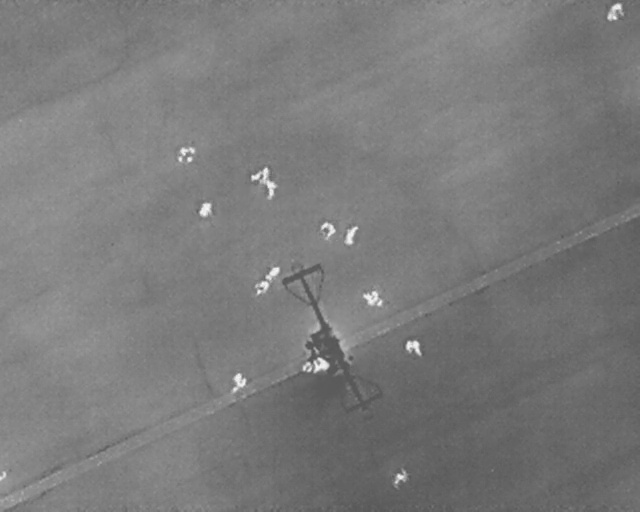Person: (358, 284, 388, 311), (196, 198, 216, 221), (342, 222, 361, 245), (250, 166, 270, 185), (318, 221, 337, 240), (263, 263, 282, 282), (405, 338, 423, 356), (232, 373, 248, 393), (178, 146, 195, 163), (312, 357, 329, 374), (607, 4, 623, 22), (266, 181, 278, 201), (395, 469, 408, 487), (254, 280, 268, 296)
